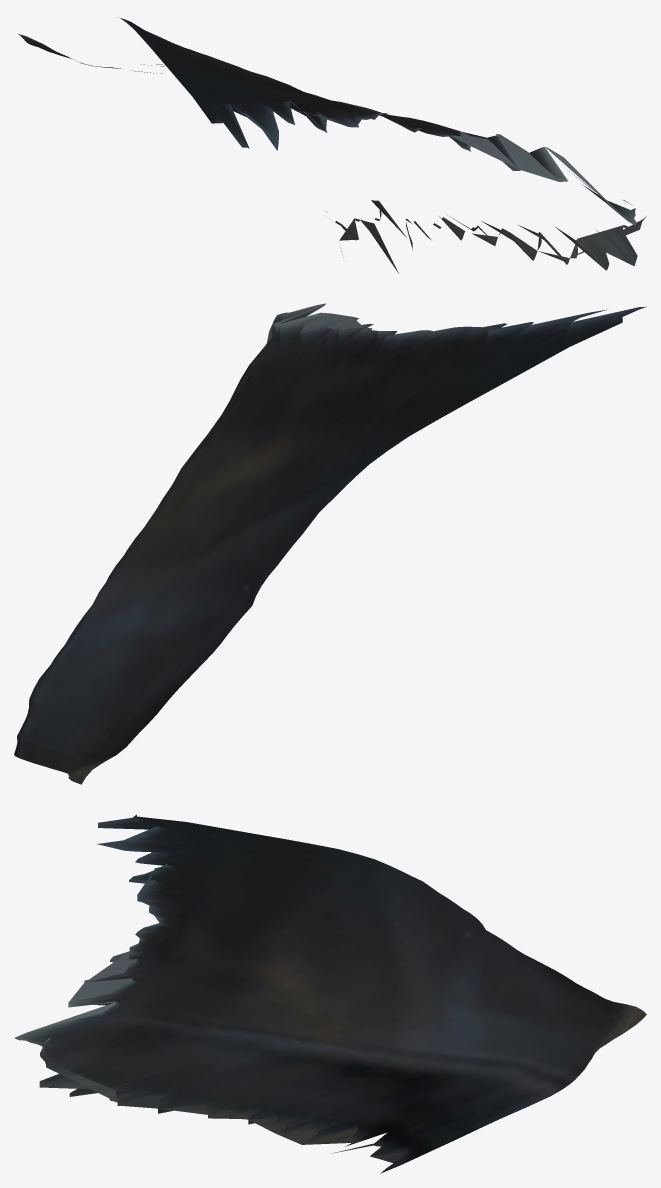
Rendered from observed-surface.glb.
3 renders of one model, top to bottom at view 1: azimuth 30°, elevation 25°; view 2: azimuth 150°, elevation 25°; view 3: azimuth 270°, elevation 25°, orthographic. The views are drawn at different scales.
Parts seen in each view (by area): view 1: geometry_0; view 2: geometry_0; view 3: geometry_0.
Boxes of the visible parts, x1,y1,x2,y2 form: geometry_0: [18, 18, 646, 273]; geometry_0: [14, 303, 646, 784]; geometry_0: [14, 814, 646, 1173].
Size of the model in its own units: 0.5795 by 0.4983 by 1.13.
Materials: 1 (1 with a texture image).
